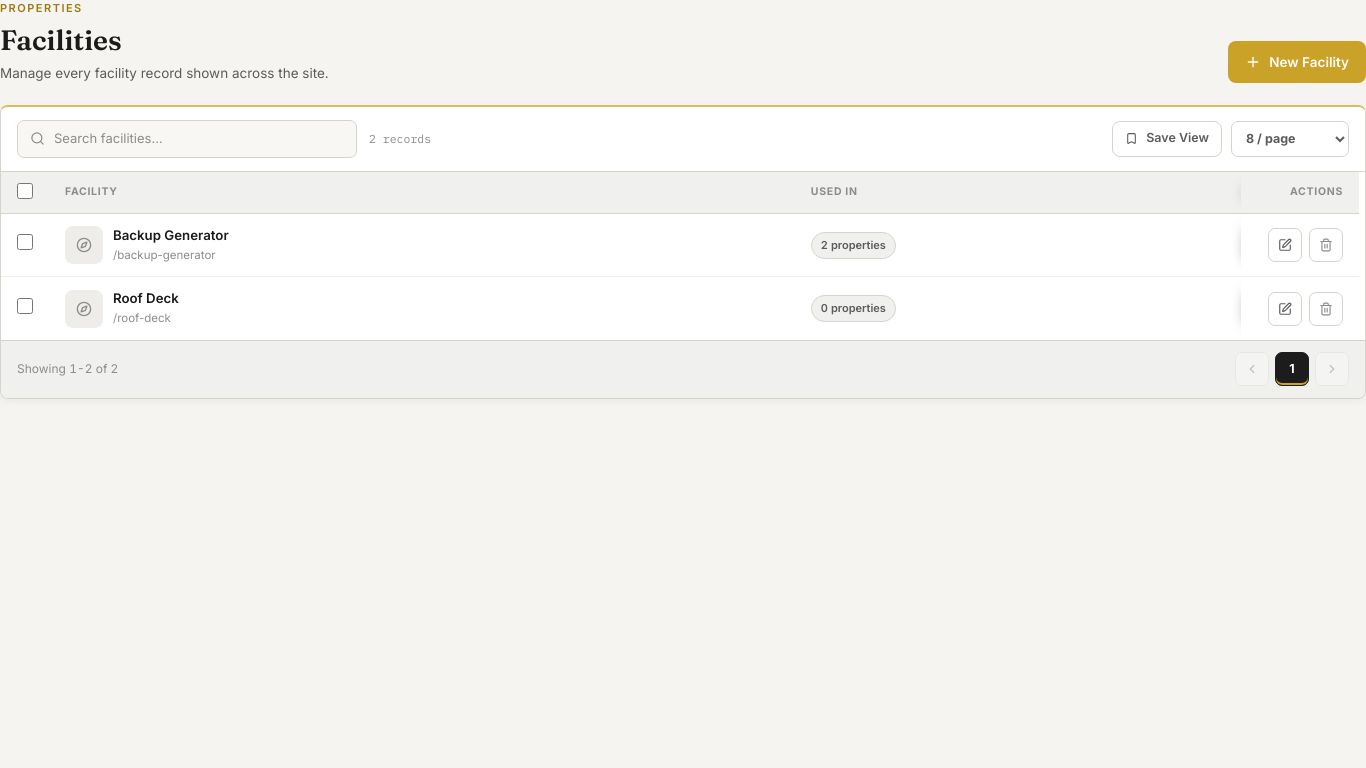
Test: LookupManager › reports partial bulk deletion and refreshes stale rows
Step 1. Click the checkbox named "Select Backup Generator" → {"x": 25, "y": 242}, box [17,234,33,250]
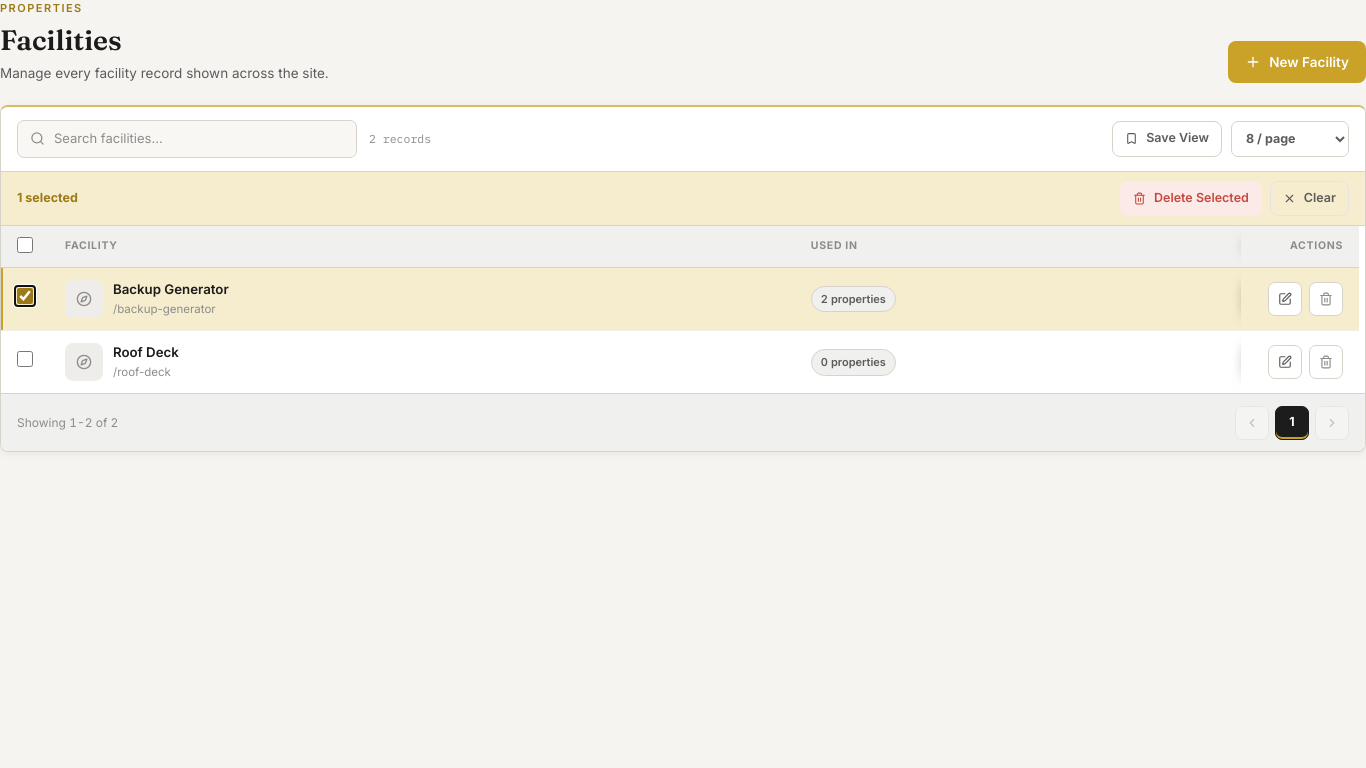
Step 2. Click the checkbox named "Select Roof Deck" → {"x": 25, "y": 359}, box [17,351,33,367]
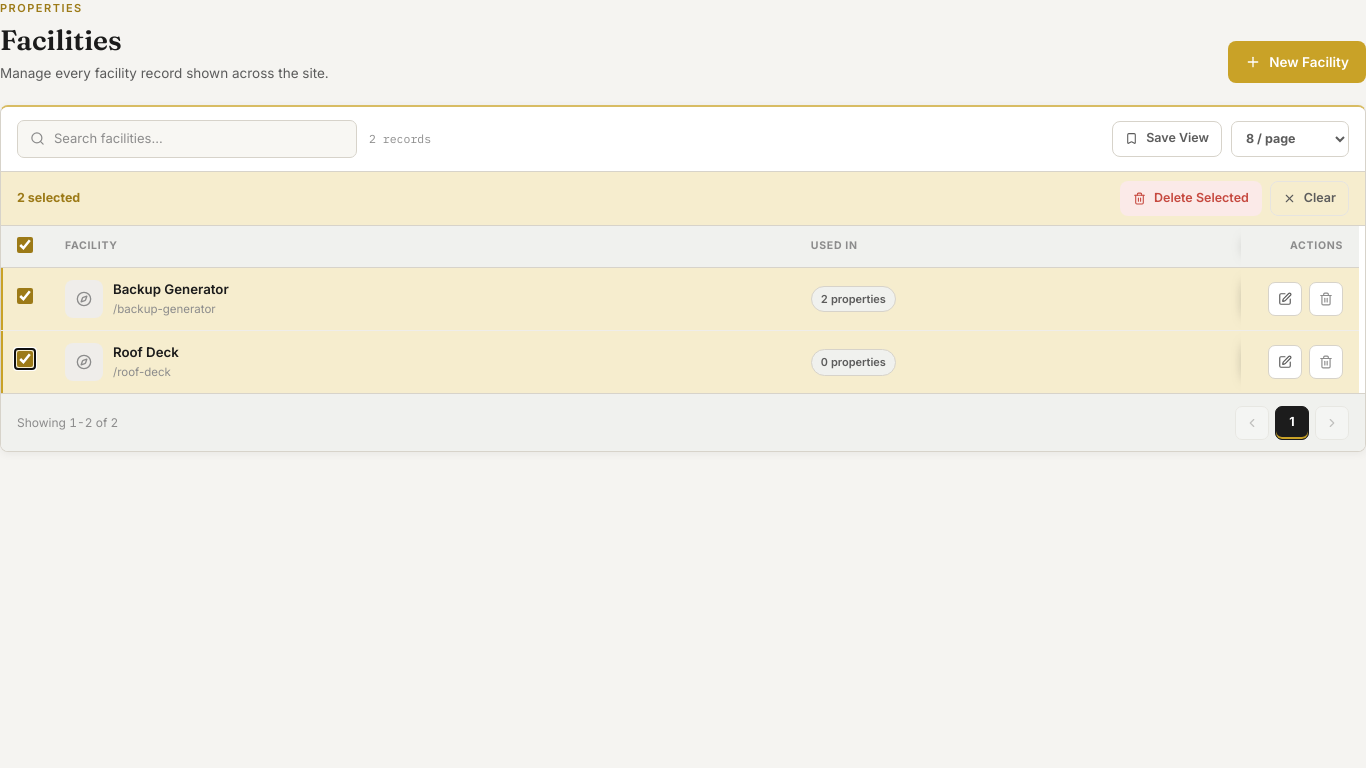
Step 3. Click the button "Delete Selected" → {"x": 1191, "y": 198}, box [1120,181,1262,216]
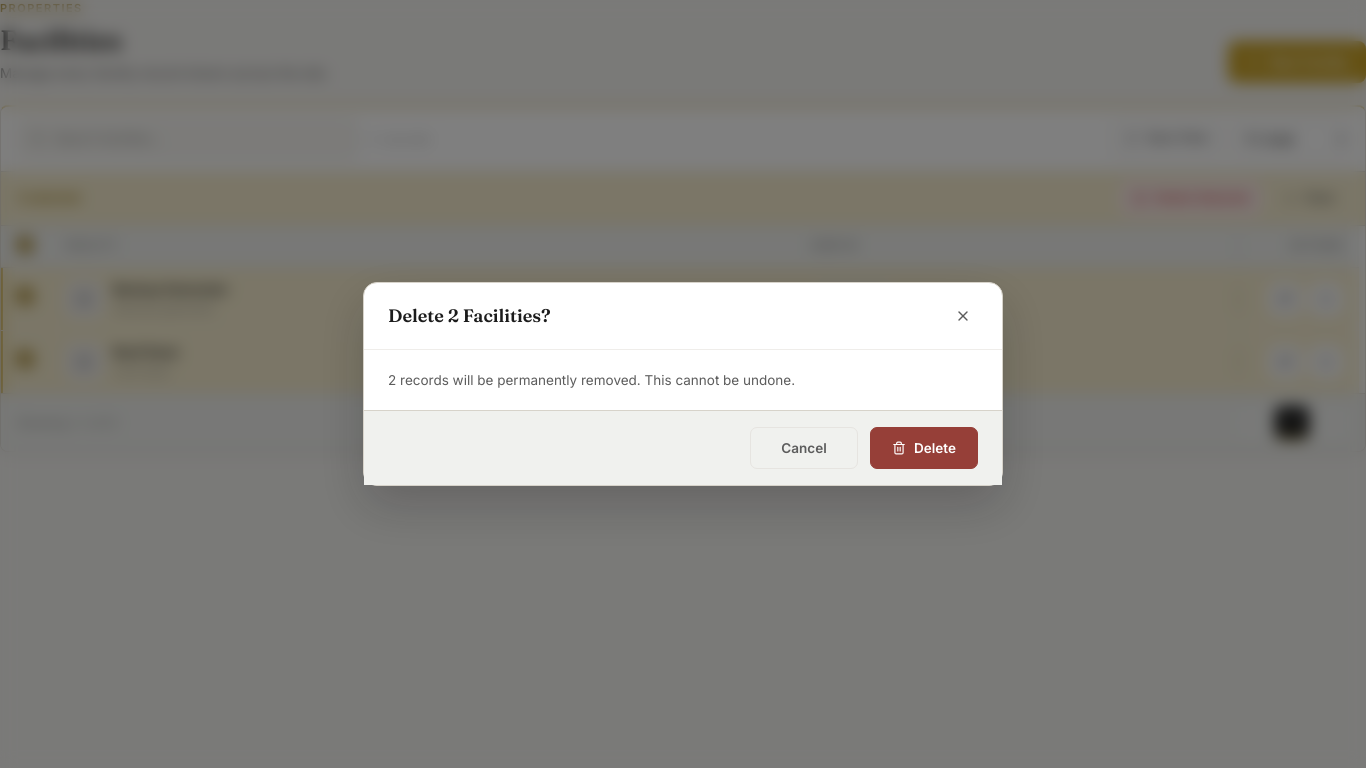
Step 4. Click the button "Delete" → {"x": 924, "y": 448}, box [870,427,978,469]
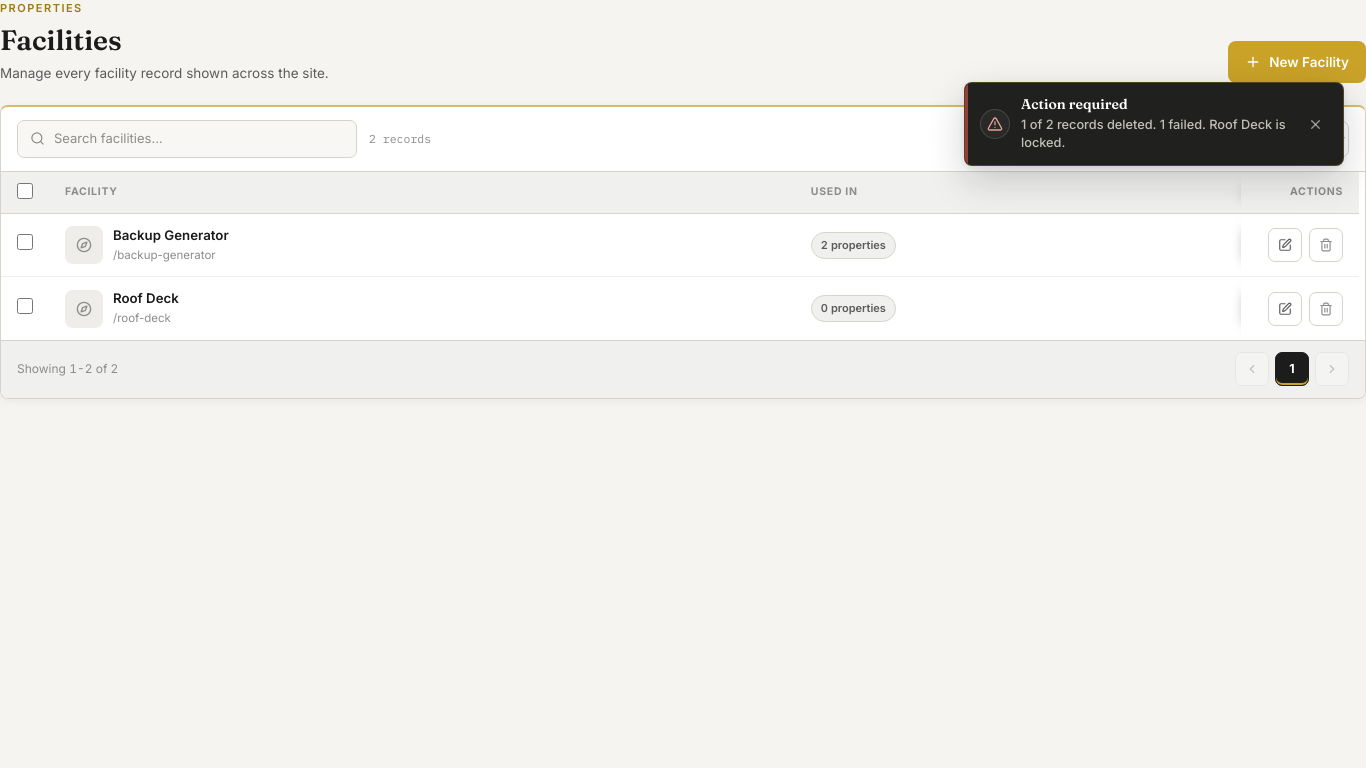
Now the message shows "1 of 2 records deleted. 1 failed. Roof Deck is locked.", box [1021,116,1286,150]
Now the text "2 selected" is gone
